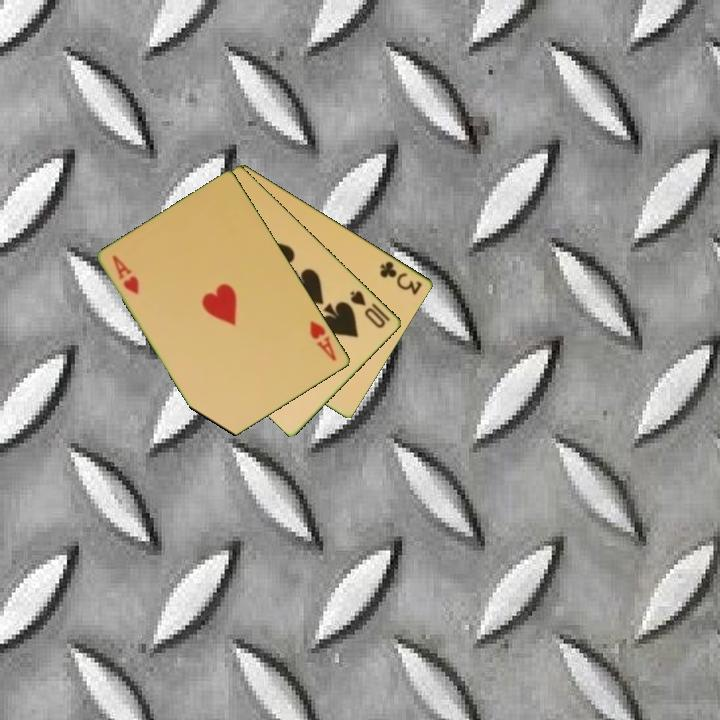10s: (347, 287, 394, 331)
3c: (376, 257, 425, 298)
Ah: (306, 317, 340, 364), (109, 252, 142, 297)
